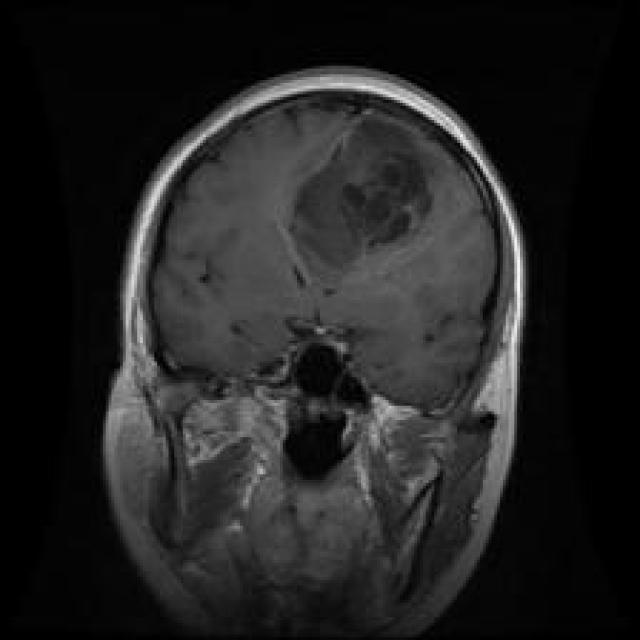glioma_tumor: (280, 95, 444, 308)
